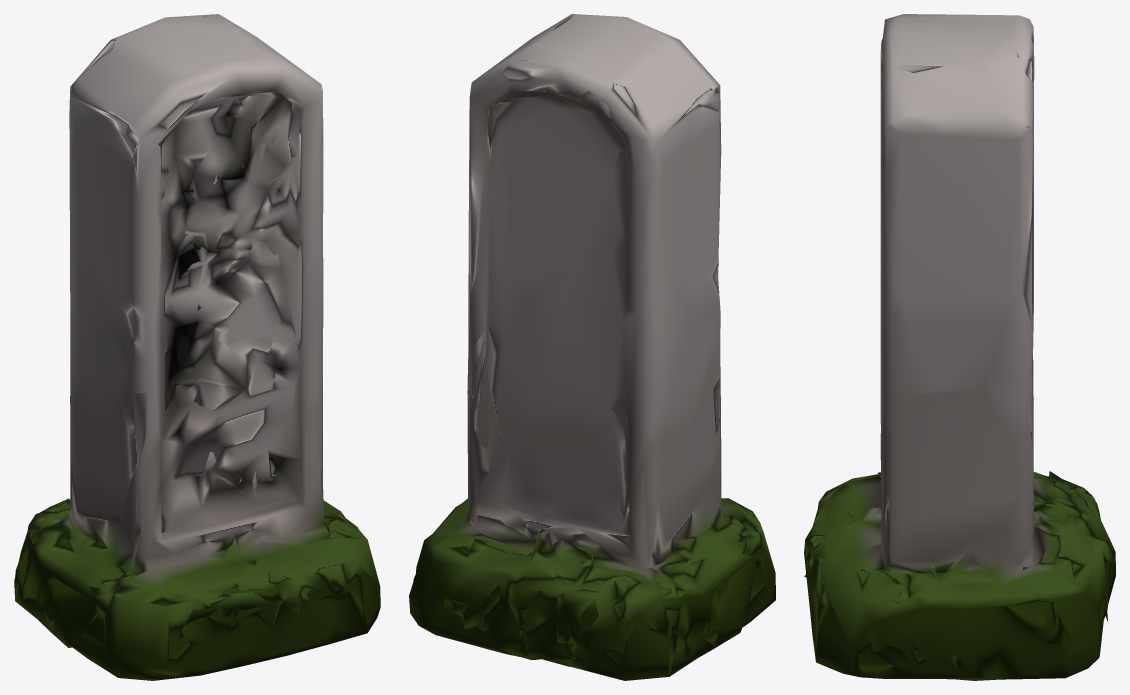
The model's file is gen3d-stele-lod0.glb.
3 views of the same model, side by side, from view 1: azimuth 30°, elevation 25°; view 2: azimuth 150°, elevation 25°; view 3: azimuth 270°, elevation 25° (orthographic). The views are drawn at different scales.
Visible parts, largest first — view 1: part_0; view 2: part_0; view 3: part_0.
Part boxes in pixels (x1,y1,x2,y2): part_0: (14, 14, 380, 680); part_0: (409, 14, 775, 680); part_0: (804, 14, 1115, 680).
Size of the model in its own units: 0.5246 by 1 by 0.4857.
